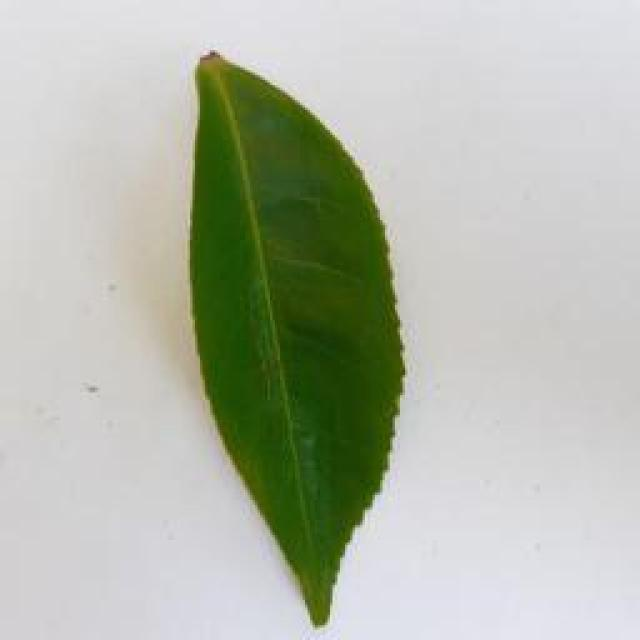Healthy: (178, 43, 404, 629)
